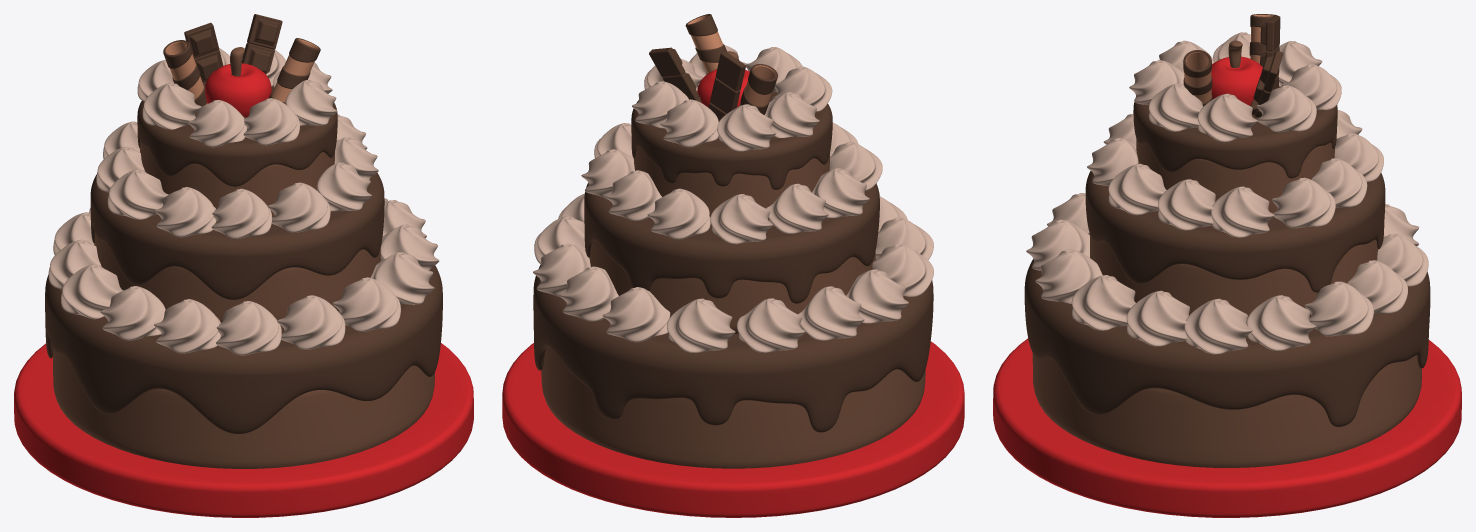
The picture shows the model from 3 angles, left to right: view 1: azimuth 30°, elevation 25°; view 2: azimuth 150°, elevation 25°; view 3: azimuth 270°, elevation 25°; orthographic projection.
Visible parts, largest first — view 1: base.009, bottom jam.008, bottom cake.010, middle jam, top jam, middle cake.005, Star.011, Star.013, Star.012, Star.010, Star.009, Star.016 (+12 smaller); view 2: base.009, bottom jam.008, bottom cake.010, middle jam, top jam, Star.011, Star.009, middle cake.005, Star.016, Star.017, Star.013, Star.012 (+12 smaller); view 3: base.009, bottom jam.008, bottom cake.010, middle jam, top jam, middle cake.005, Star.013, Star.017, Star.012, Star.010, Star.011, Star.016 (+10 smaller).
Boxes of the visible parts, x1,y1,x2,y2 form: base.009: (14, 343, 473, 517); bottom jam.008: (45, 265, 442, 433); bottom cake.010: (53, 348, 434, 468); middle jam: (90, 172, 384, 299); top jam: (137, 86, 337, 186); middle cake.005: (94, 232, 380, 325); Star.011: (61, 200, 426, 353); Star.013: (53, 212, 434, 349); Star.012: (48, 224, 439, 355); Star.010: (103, 121, 371, 232); Star.009: (107, 114, 367, 237); Star.016: (142, 48, 332, 147); base.009: (502, 341, 964, 517); bottom jam.008: (533, 264, 933, 432); bottom cake.010: (541, 348, 925, 468); middle jam: (584, 183, 879, 303); top jam: (631, 85, 832, 189); Star.011: (533, 193, 933, 323); Star.009: (581, 123, 882, 218); middle cake.005: (589, 241, 875, 333); Star.016: (632, 59, 832, 137); Star.017: (660, 45, 802, 151); Star.013: (602, 287, 805, 352); Star.012: (559, 196, 907, 340); base.009: (993, 338, 1461, 517); bottom jam.008: (1024, 259, 1430, 426); bottom cake.010: (1032, 353, 1421, 467); middle jam: (1085, 171, 1385, 292); top jam: (1133, 86, 1337, 178); middle cake.005: (1090, 234, 1378, 323); Star.013: (1026, 219, 1428, 330); Star.017: (1129, 41, 1341, 131); Star.012: (1047, 193, 1407, 346); Star.010: (1087, 110, 1383, 215); Star.011: (1184, 281, 1373, 354); Star.016: (1159, 32, 1316, 142).
Bounding box in the file's own units: 2.4 × 2.23 × 2.4.
